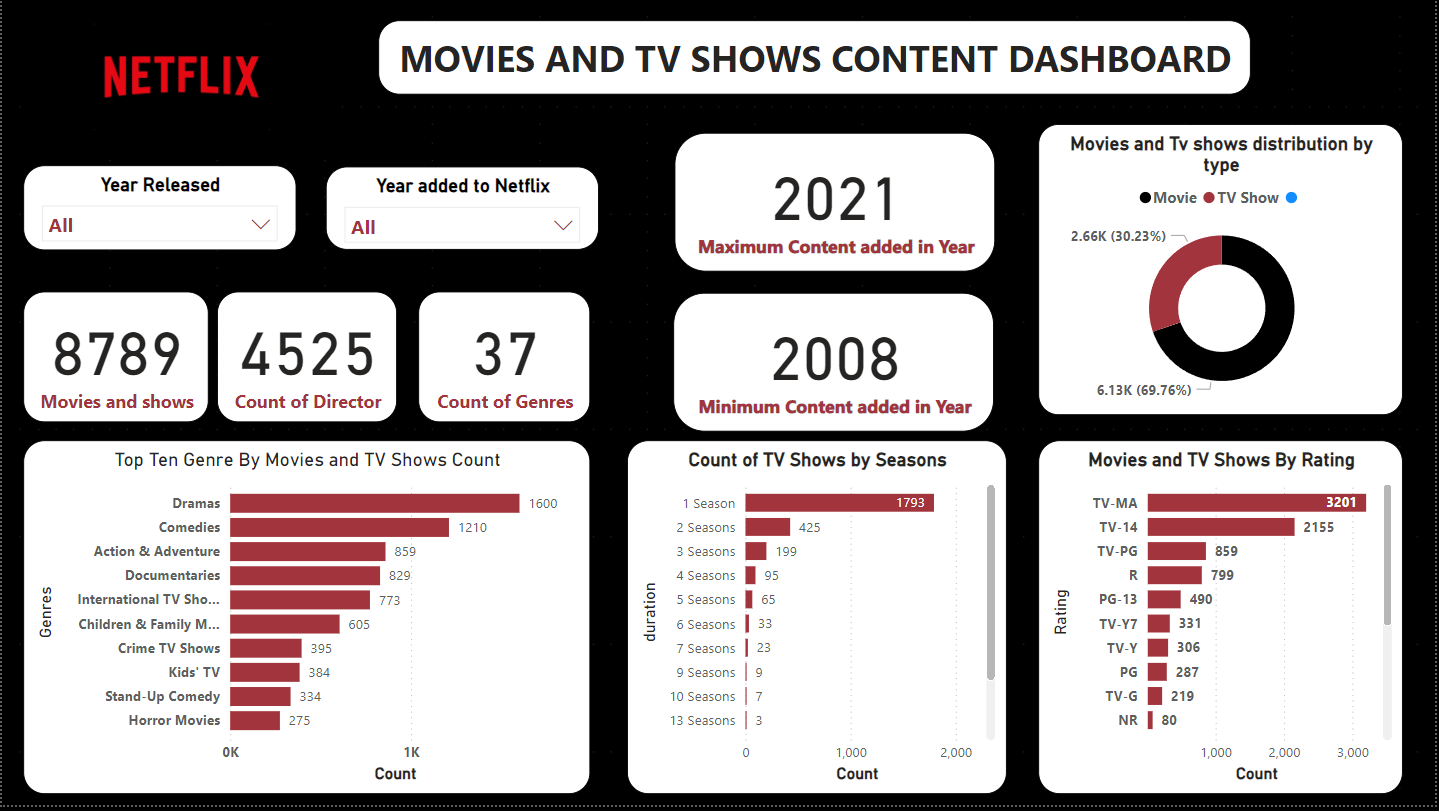

This screenshot's page, from the dashboard's own definition file:
{"tool":"powerbi","page":{"name":"Page 1","canvas":[1280,720],"ordinal":0},"visuals":[{"type":"clusteredBarChart","title":"Count of TV Shows by Seasons","fields":{"Category":["netflix_titles.duration"],"Y":["CountNonNull(netflix_titles.type - new)"]},"box":[558.5,394.2,338.9,315.6],"z":0},{"type":"donutChart","title":"Movies and Tv shows distribution by type","fields":{"Category":["netflix_titles.type"],"Y":["CountNonNull(netflix_titles.type)"]},"box":[925.1,112,325.8,260.4],"z":1000},{"type":"slicer","title":"Year  Released","fields":{"Values":["netflix_titles.release_year"]},"box":[19.2,148.8,243.6,75.6],"z":2000},{"type":"slicer","title":"Year added to Netflix","fields":{"Values":["netflix_titles.date_added.Variation.Date Hierarchy.Year"]},"box":[289.2,150,243.6,74.4],"z":3000},{"type":"card","title":"Movies and Shows","fields":{"Values":["CountNonNull(netflix_titles.show_id)"]},"box":[19.2,261.6,165.6,116.4],"z":4000},{"type":"card","title":"Movies and Shows","fields":{"Values":["Count(netflix_titles.director.1)"]},"box":[192,261.6,160.8,116.4],"z":5000},{"type":"card","title":"Movies and Shows","fields":{"Values":["Count(netflix_titles.listed_in.1)"]},"box":[372,261.6,153.6,116.4],"z":6000},{"type":"barChart","title":"Top Ten Genre By Movies and TV Shows Count","fields":{"Category":["netflix_titles.listed_in.1"],"Y":["CountNonNull(netflix_titles.type)"]},"box":[18.9,394.2,506.2,315.6],"z":7000},{"type":"clusteredBarChart","title":"Movies and TV Shows By Rating","fields":{"Category":["netflix_titles.rating"],"Y":["CountNonNull(netflix_titles.type)"]},"box":[925.1,394.2,325.8,315.6],"z":8000},{"type":"card","title":"Movies and Shows","fields":{"Values":["Max(netflix_titles.date_added - Copy)"]},"box":[600.7,119.3,286.5,123.6],"z":9000},{"type":"card","title":"Movies and Shows","fields":{"Values":["Min(netflix_titles.date_added - Copy)"]},"box":[599.3,261.8,286.5,123.6],"z":10000},{"type":"image","box":[19.2,0,283.2,139.2],"z":11000},{"type":"textbox","box":[336,19.2,778.8,66],"z":12000}]}

Visuals, with their boxes in screenshot pixels (x1, y1, x2, y2), scaled from the page's 1280x720 canvas onto the 1439x811 screenshot:
"Count of TV Shows by Seasons" clusteredBarChart: region(628, 444, 1009, 800)
"Movies and Tv shows distribution by type" donutChart: region(1040, 126, 1406, 419)
"Year  Released" slicer: region(22, 168, 295, 253)
"Year added to Netflix" slicer: region(325, 169, 599, 253)
"Movies and Shows" card: region(22, 295, 208, 426)
"Movies and Shows" card: region(216, 295, 397, 426)
"Movies and Shows" card: region(418, 295, 591, 426)
"Top Ten Genre By Movies and TV Shows Count" barChart: region(21, 444, 590, 800)
"Movies and TV Shows By Rating" clusteredBarChart: region(1040, 444, 1406, 800)
"Movies and Shows" card: region(675, 134, 997, 274)
"Movies and Shows" card: region(674, 295, 996, 434)
image: region(22, 0, 340, 157)
textbox: region(378, 22, 1253, 96)
